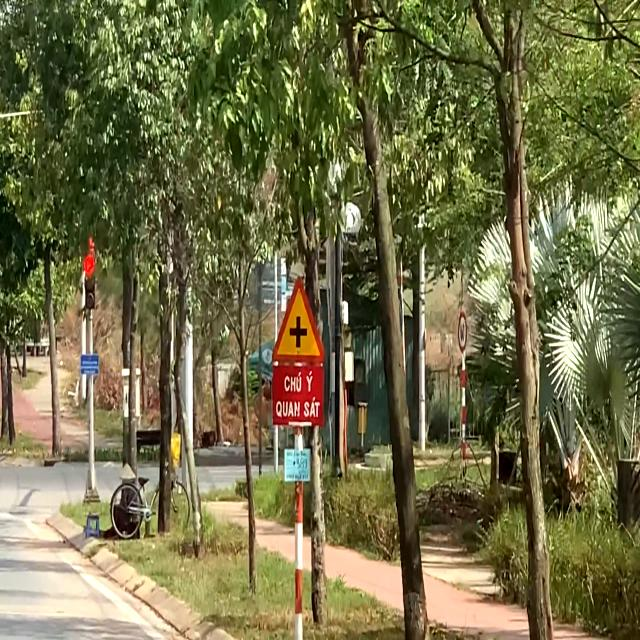W.205a: (270, 274, 326, 363)
